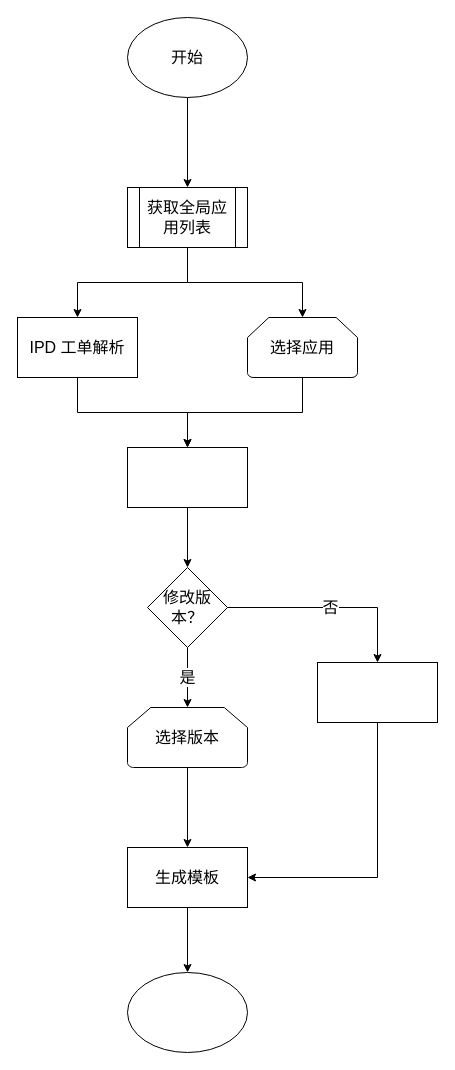
Image size: 455x1070. Some labels were removed from this diagram. The centre of each missing label's shape, as x and y in pixels:
"生成应用列表" belongs at (x=187, y=477).
"结束" belongs at (x=187, y=1012).
"默认 latest" belongs at (x=377, y=692).
